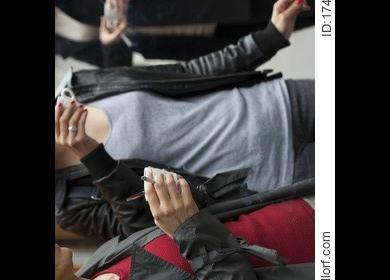Cigarette: (119, 33, 132, 45), (141, 175, 155, 183)
